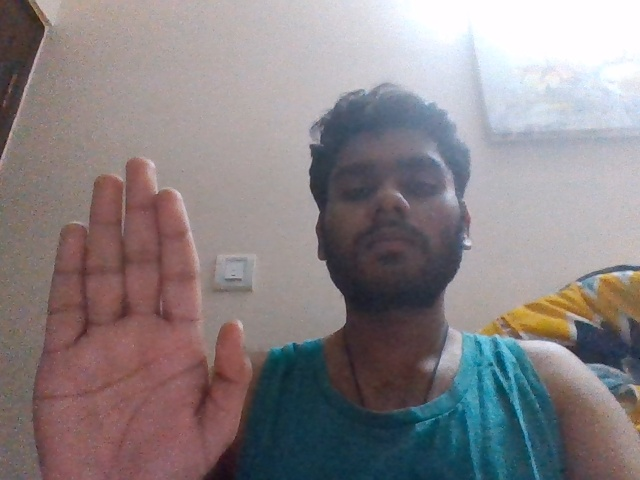hello: (27, 154, 255, 479)
